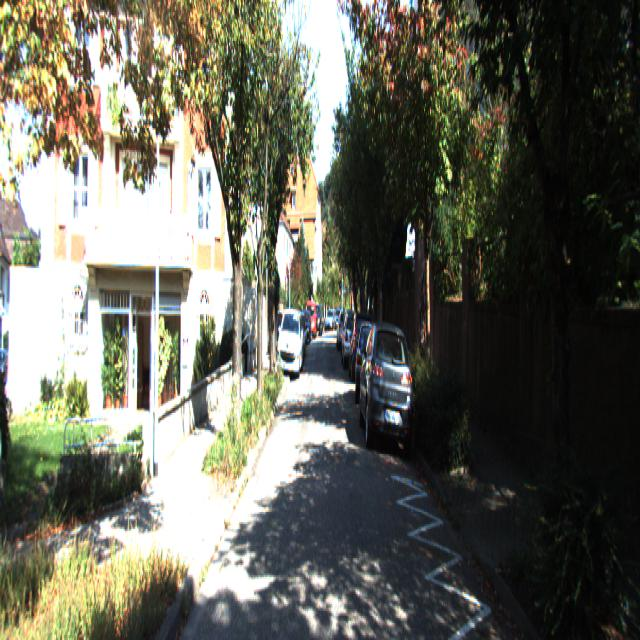Car: (357, 318, 415, 470), (354, 314, 384, 410), (276, 307, 304, 382), (348, 306, 374, 385), (341, 306, 364, 369)
